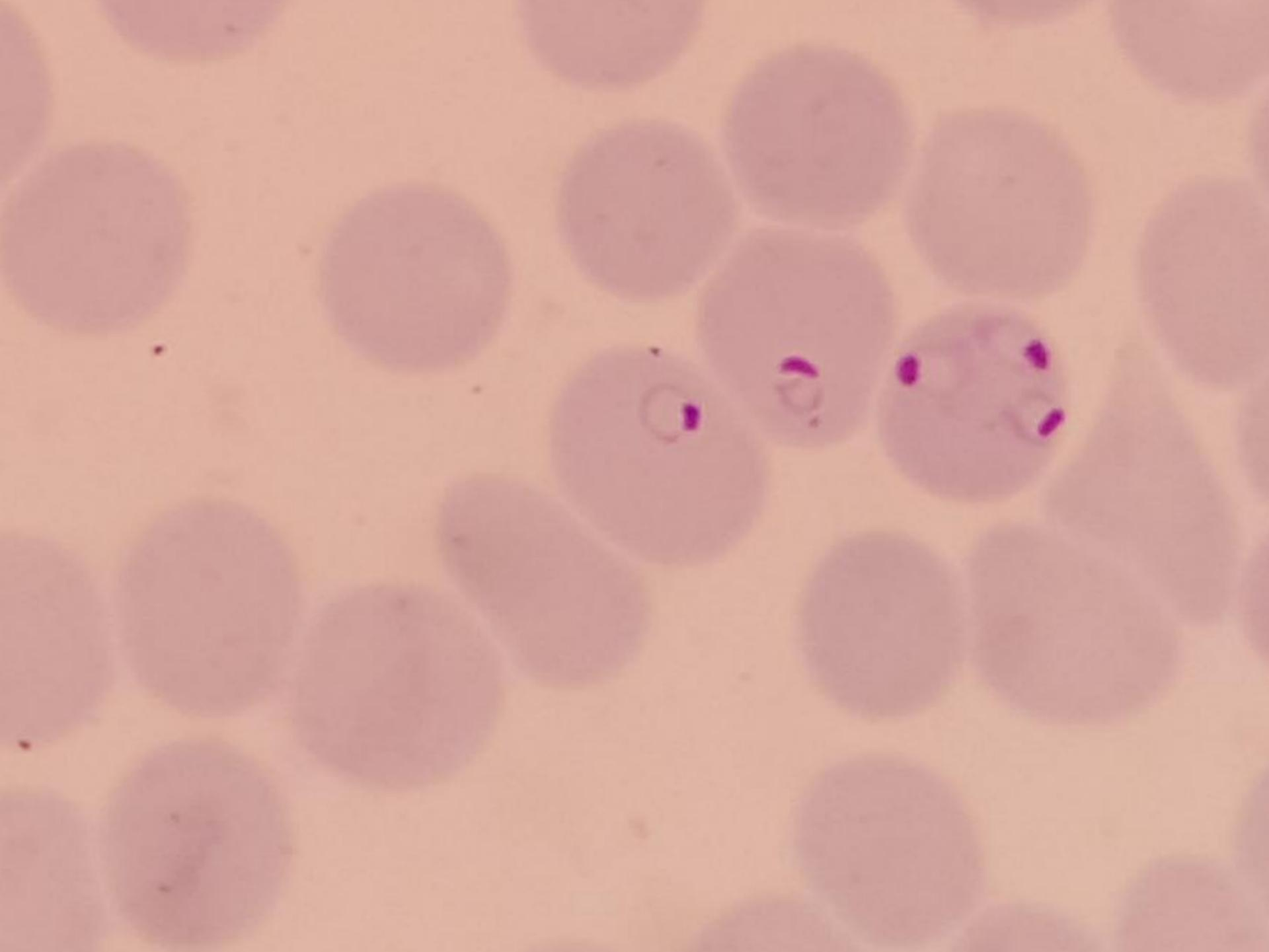Infected: (550, 346, 764, 569), (691, 237, 898, 442), (876, 306, 1064, 503)
Uninfected: (1044, 346, 1239, 619), (433, 466, 656, 688), (284, 585, 504, 791), (91, 735, 293, 952), (970, 519, 1174, 721), (112, 504, 303, 715), (0, 139, 189, 336), (790, 755, 983, 944), (321, 184, 510, 374), (727, 43, 915, 230), (912, 108, 1088, 298), (558, 121, 735, 303), (794, 535, 960, 719), (1134, 175, 1269, 396), (0, 527, 104, 750), (0, 791, 102, 952)
